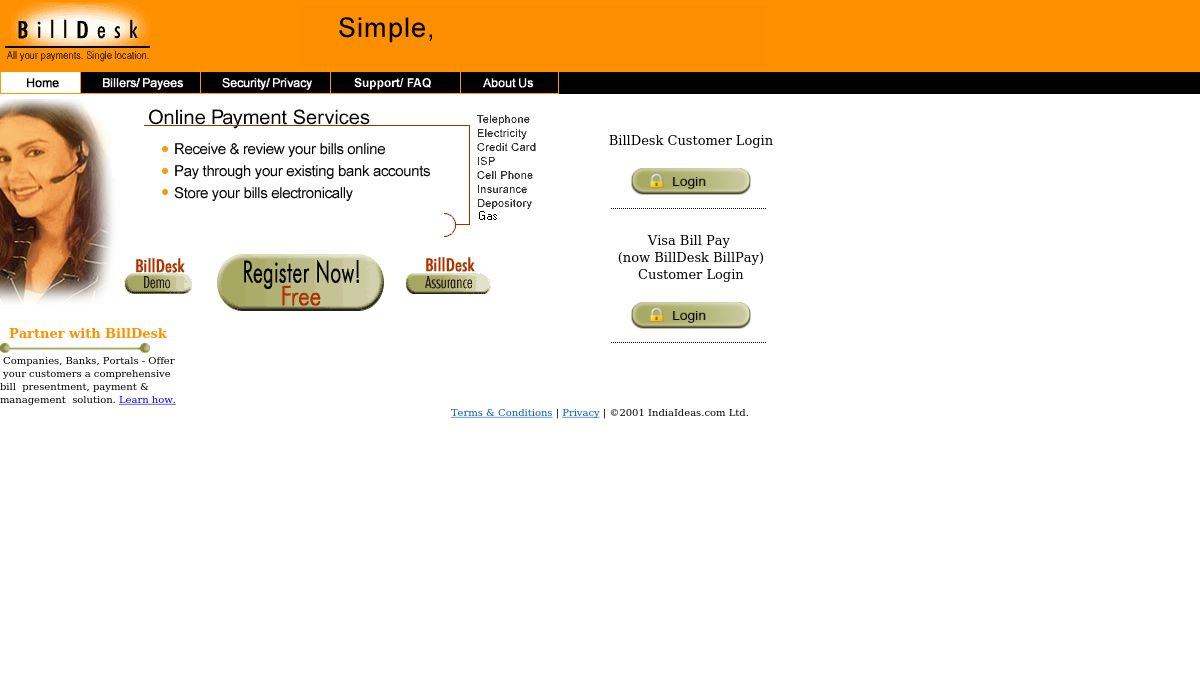menu: (1, 72, 1200, 94)
menu-button: (201, 72, 331, 93), (331, 72, 460, 93), (81, 72, 201, 94), (460, 72, 558, 94), (1, 71, 80, 94)
